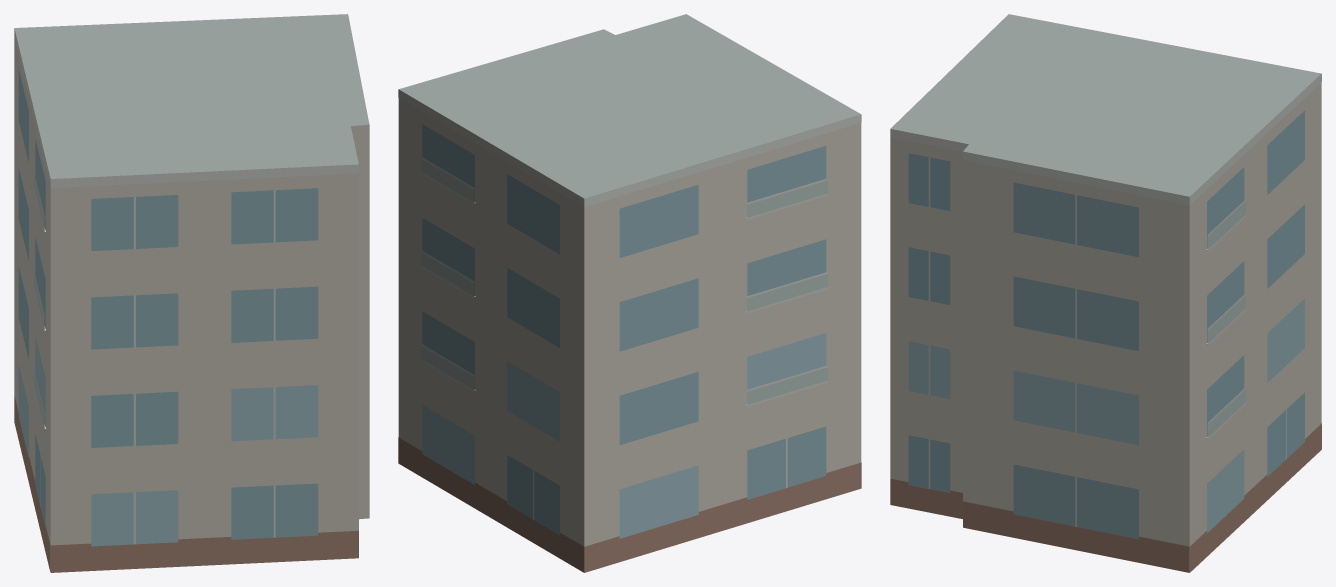
Rendered from survey-upis-32524515.glb.
The picture shows the model from 3 angles, left to right: view 1: azimuth 30°, elevation 25°; view 2: azimuth 150°, elevation 25°; view 3: azimuth 270°, elevation 25°; orthographic projection. The views are drawn at different scales.
Visible parts, largest first — view 1: survey-upis-32524515.tmp; view 2: survey-upis-32524515.tmp; view 3: survey-upis-32524515.tmp.
Boxes of the visible parts, x1,y1,x2,y2 form: survey-upis-32524515.tmp: (14, 14, 369, 572); survey-upis-32524515.tmp: (398, 14, 861, 572); survey-upis-32524515.tmp: (890, 14, 1321, 572).
Bounding box in the file's own units: 11.16 × 10.7 × 11.14.
